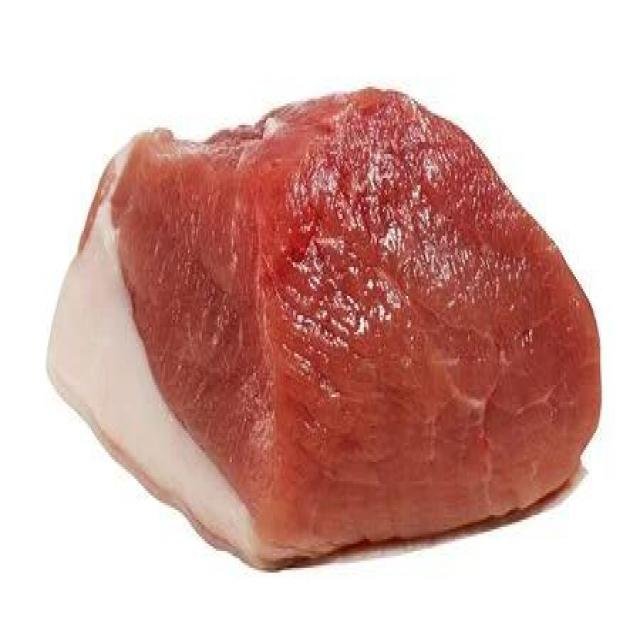pork: (43, 100, 604, 516)
